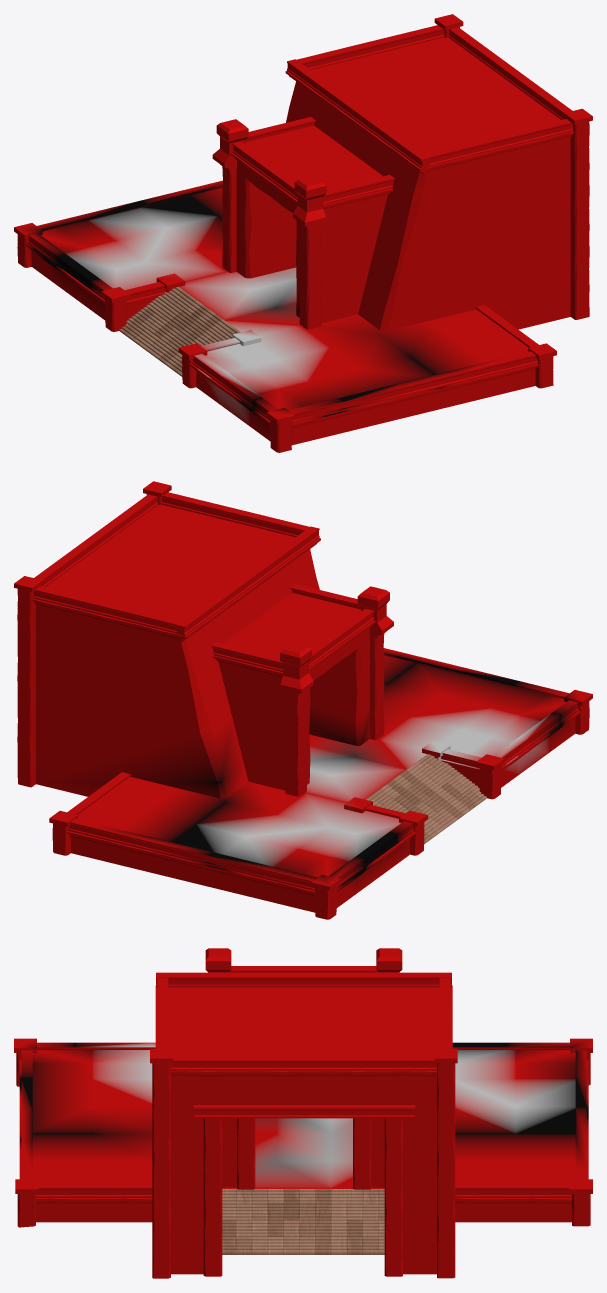
3 renders of one model, top to bottom at view 1: azimuth 30°, elevation 25°; view 2: azimuth 150°, elevation 25°; view 3: azimuth 270°, elevation 25°, orthographic. The views are drawn at different scales.
Visible parts, largest first — view 1: SM_entry_pyramid_01_LOD0; view 2: SM_entry_pyramid_01_LOD0; view 3: SM_entry_pyramid_01_LOD0.
Boxes of the visible parts, x1,y1,x2,y2 form: SM_entry_pyramid_01_LOD0: (14,14,592,452); SM_entry_pyramid_01_LOD0: (14,481,592,919); SM_entry_pyramid_01_LOD0: (14,948,592,1278).
Size of the model in its own units: 2594 by 3131 by 1328.
